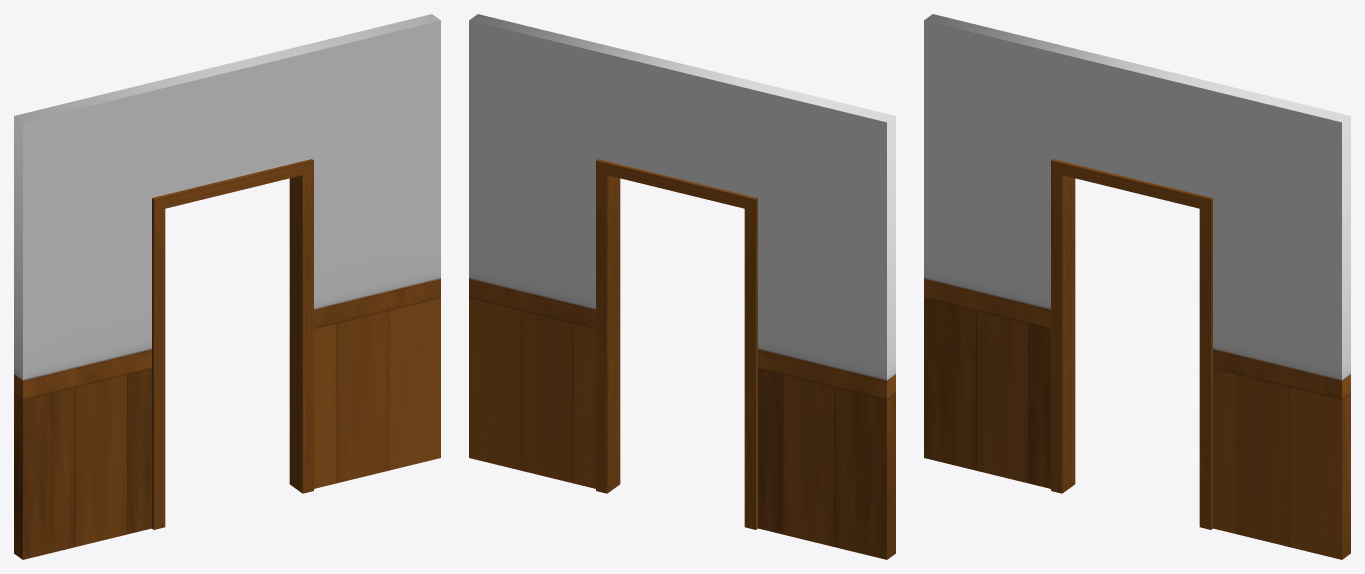
File: walldoor_002_5.glb
3 views of the same model, side by side, from view 1: azimuth 30°, elevation 25°; view 2: azimuth 150°, elevation 25°; view 3: azimuth 330°, elevation 25° (orthographic).
Parts seen in each view (by area): view 1: walldoor.002_5; view 2: walldoor.002_5; view 3: walldoor.002_5.
Part boxes in pixels (x1=…): walldoor.002_5: x1=14, y1=14, x2=440, y2=559; walldoor.002_5: x1=469, y1=14, x2=895, y2=559; walldoor.002_5: x1=924, y1=14, x2=1350, y2=559.
Size of the model in its own units: 2 by 2 by 0.1079.
1 material, 1 textured.
